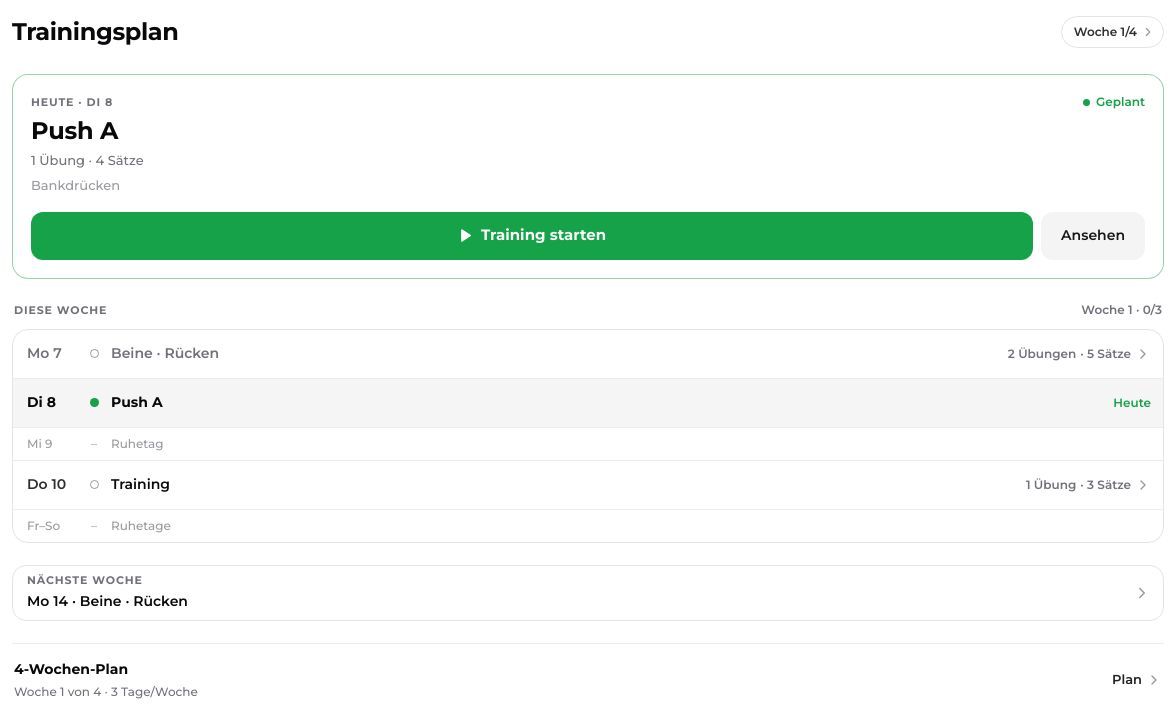
Test: Plan Overview › shows the stored plan structure and no actions the app cannot perform
The image size is (1176, 714).
Step 1. Click the button with aria-label "Planübersicht öffnen, Woche 1 von 4" → (1112, 32), box left=1061, top=16, right=1164, bottom=48
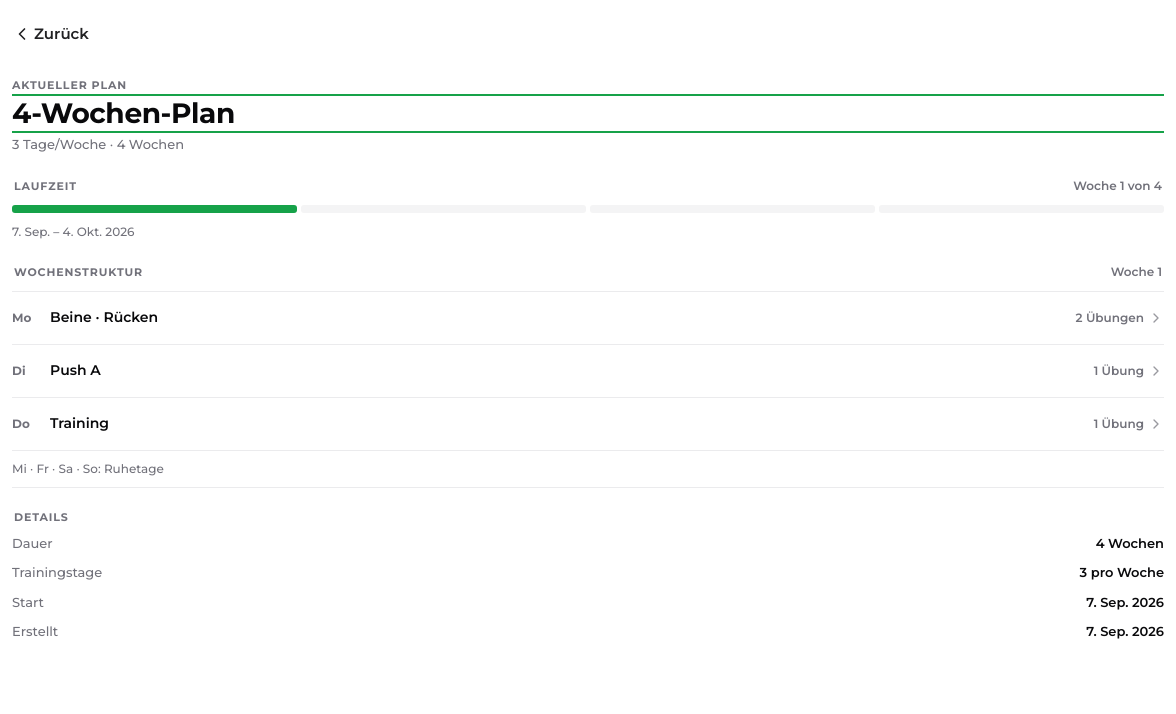
Expected: the text "3 Tage/Woche · 4 Wochen" is shown, left=12, top=136, right=184, bottom=152
Expected: the text "Mi · Fr · Sa · So: Ruhetage" is shown, left=12, top=461, right=164, bottom=476
Expected: the text "7. Sep. – 4. Okt. 2026" is shown, left=12, top=224, right=134, bottom=239
Step 2. Click the button "Do Training 1 Übung" → (80, 423), box left=12, top=398, right=1164, bottom=450
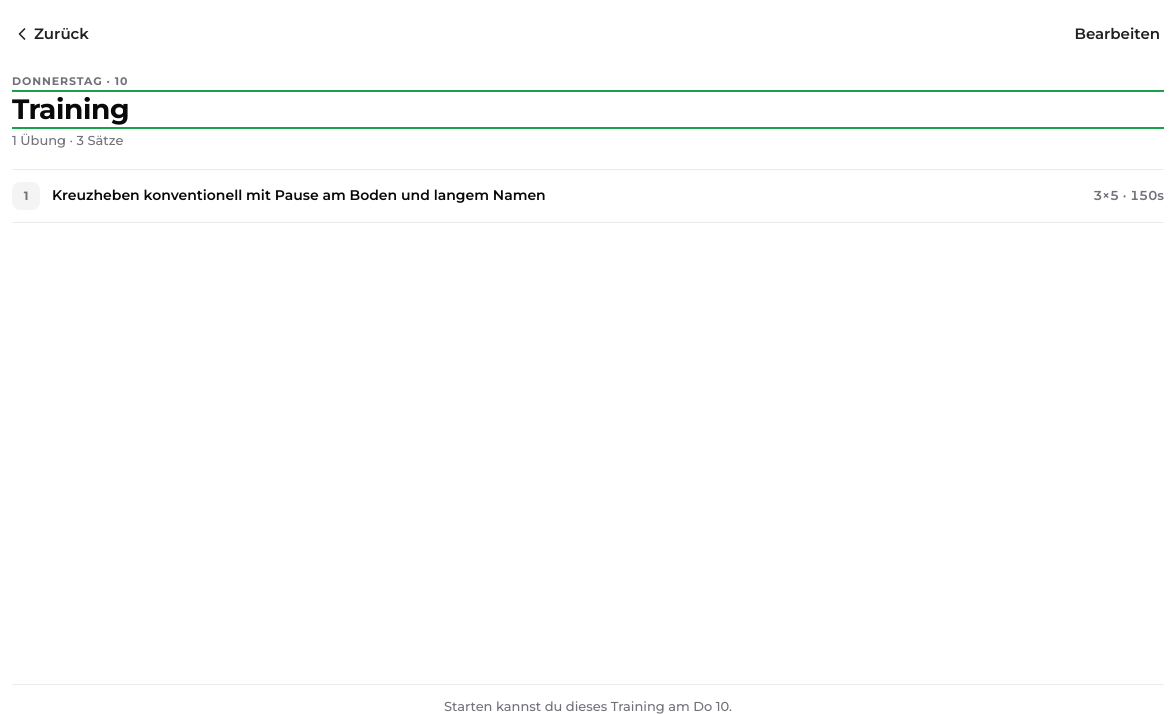
Expected: the text "Donnerstag · 10" is shown, left=12, top=74, right=128, bottom=88
